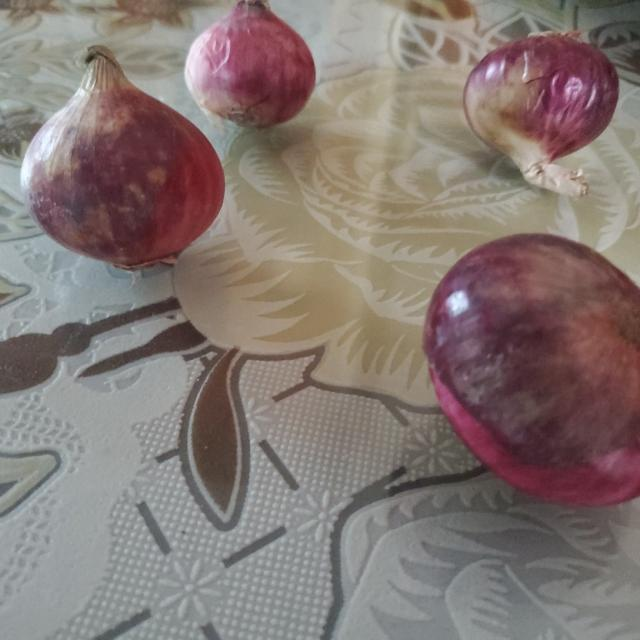onion: (426, 242, 639, 513), (21, 49, 227, 261), (466, 33, 620, 194), (182, 0, 312, 121)
